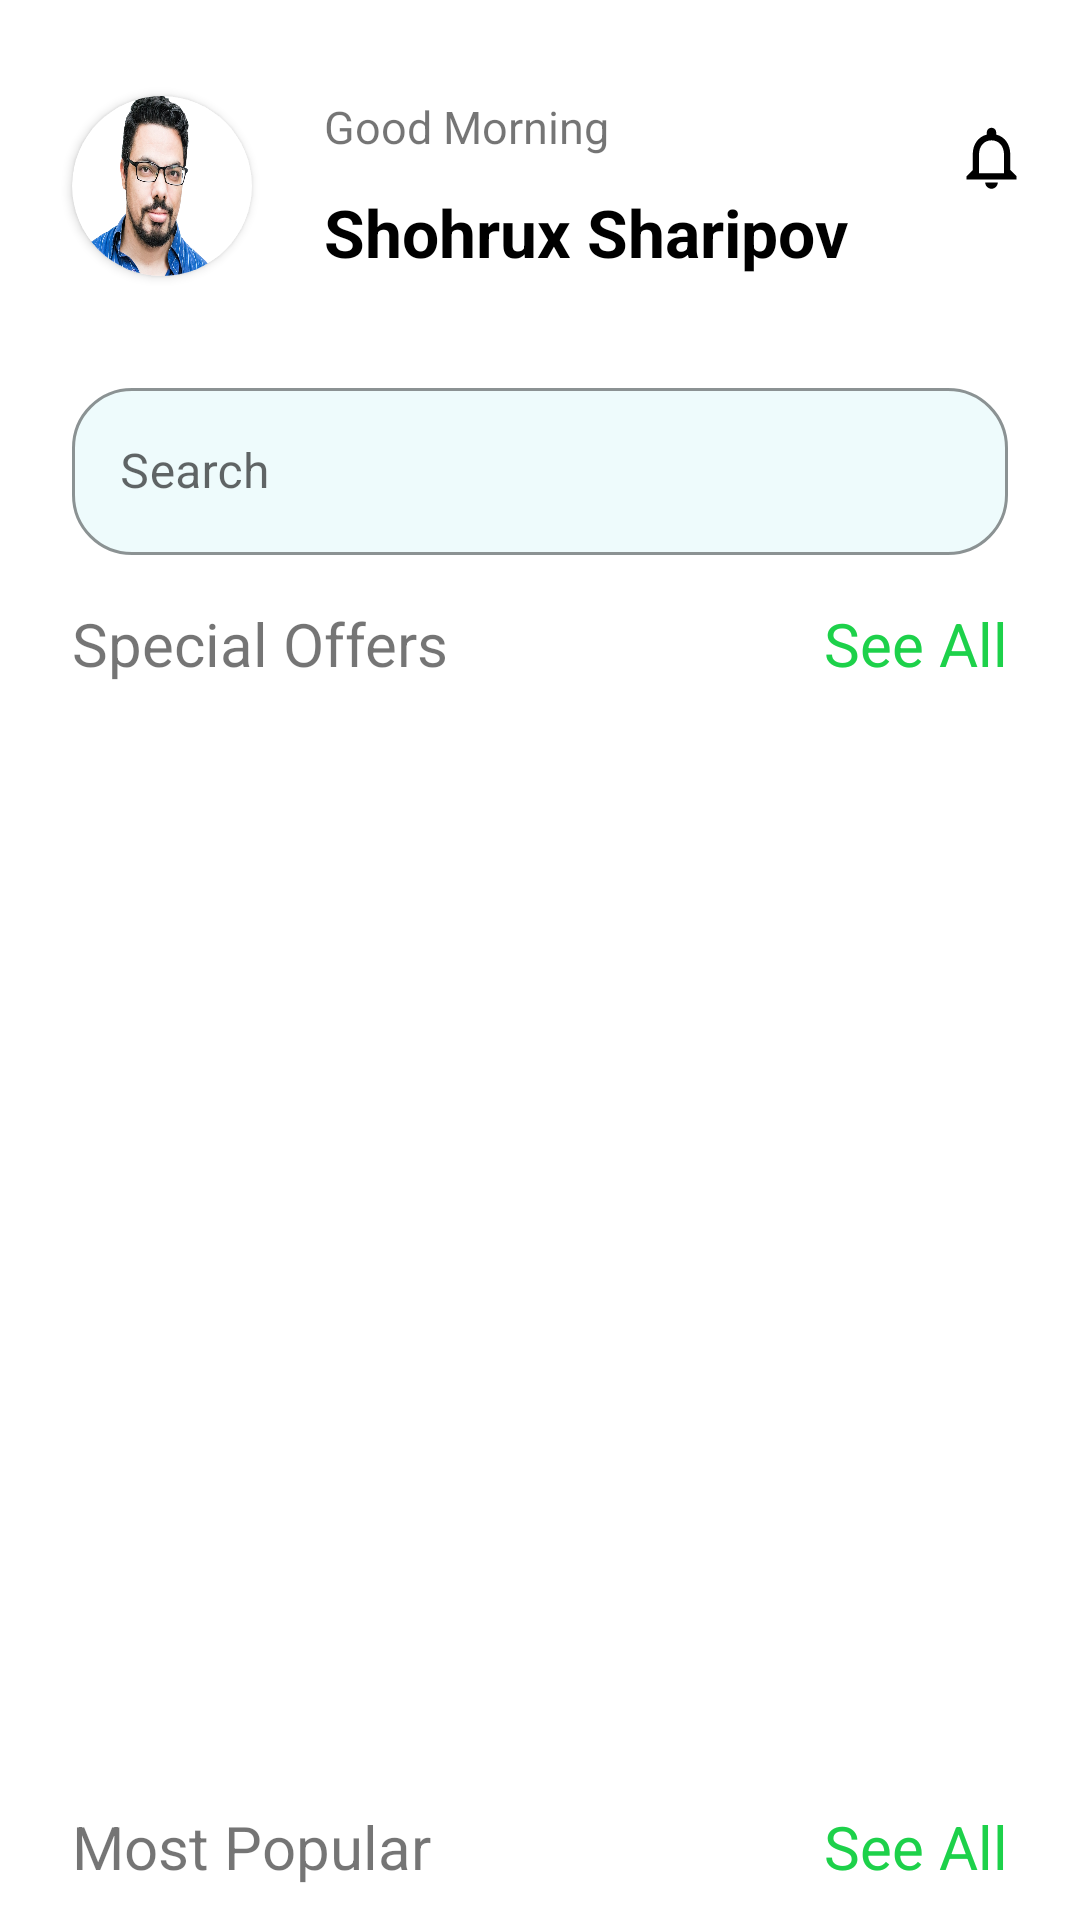

Screen size 1080×1920. Icon name, then its box in pixels as (x1, y1, x2, y2):
notification: (966, 127, 1017, 189)
